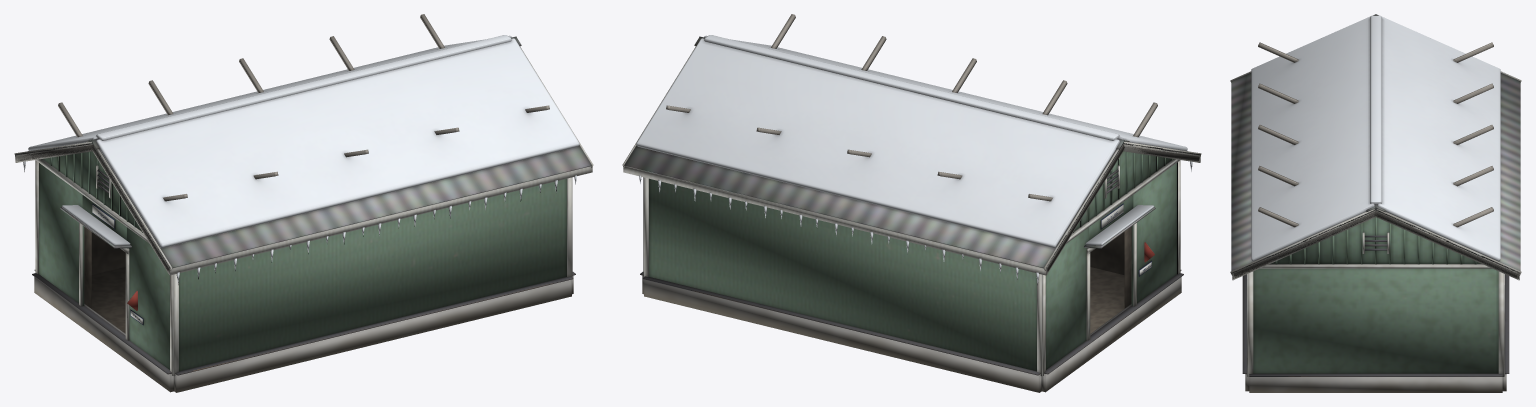
File: shed.glb
3 renders of one model, left to right at view 1: azimuth 30°, elevation 25°; view 2: azimuth 150°, elevation 25°; view 3: azimuth 270°, elevation 25°, orthographic. The views are drawn at different scales.
Parts seen in each view (by area): view 1: shed; view 2: shed; view 3: shed.
Boxes of the visible parts, x1,y1,x2,y2 form: shed: (14, 14, 593, 392); shed: (622, 14, 1201, 392); shed: (1230, 14, 1521, 392).
Bounding box in the file's own units: 12.32 × 5.69 × 7.78.
Materials: 1 (1 with a texture image).
